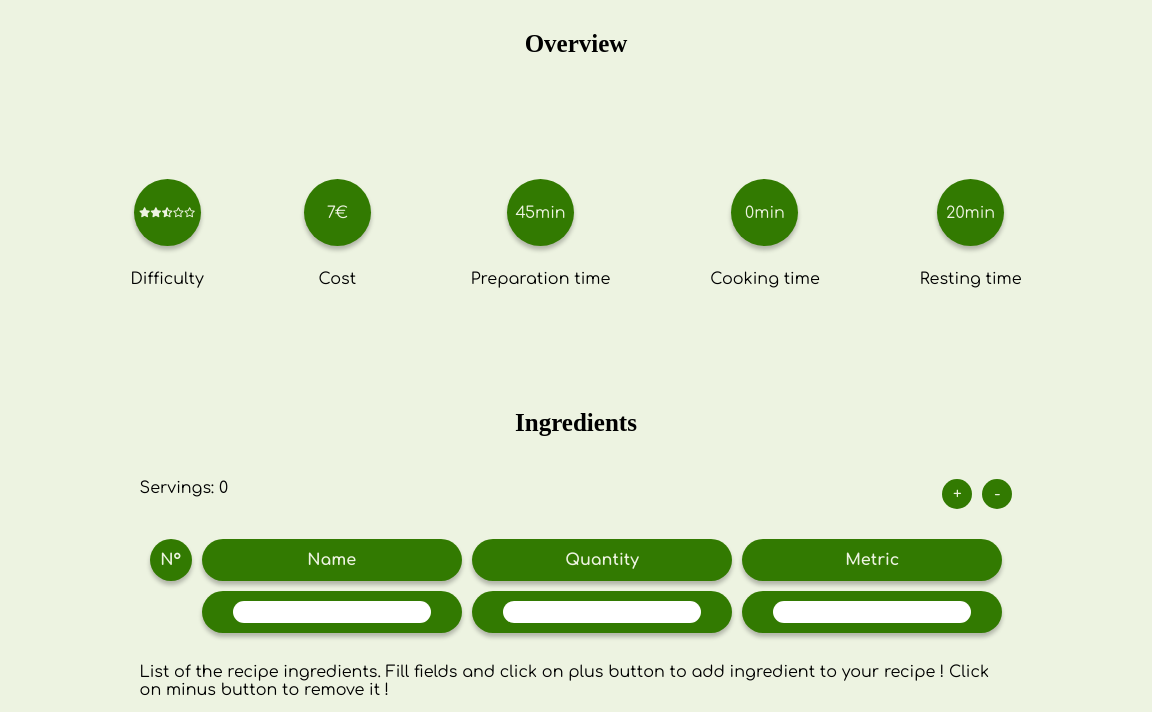
Scenario: clicks on plus button to add an invalid ingredient
(page scrolled)
Type "oil5" into the field with id "name" at point(332, 612), box x1=233 y1=601 x2=430 y2=623
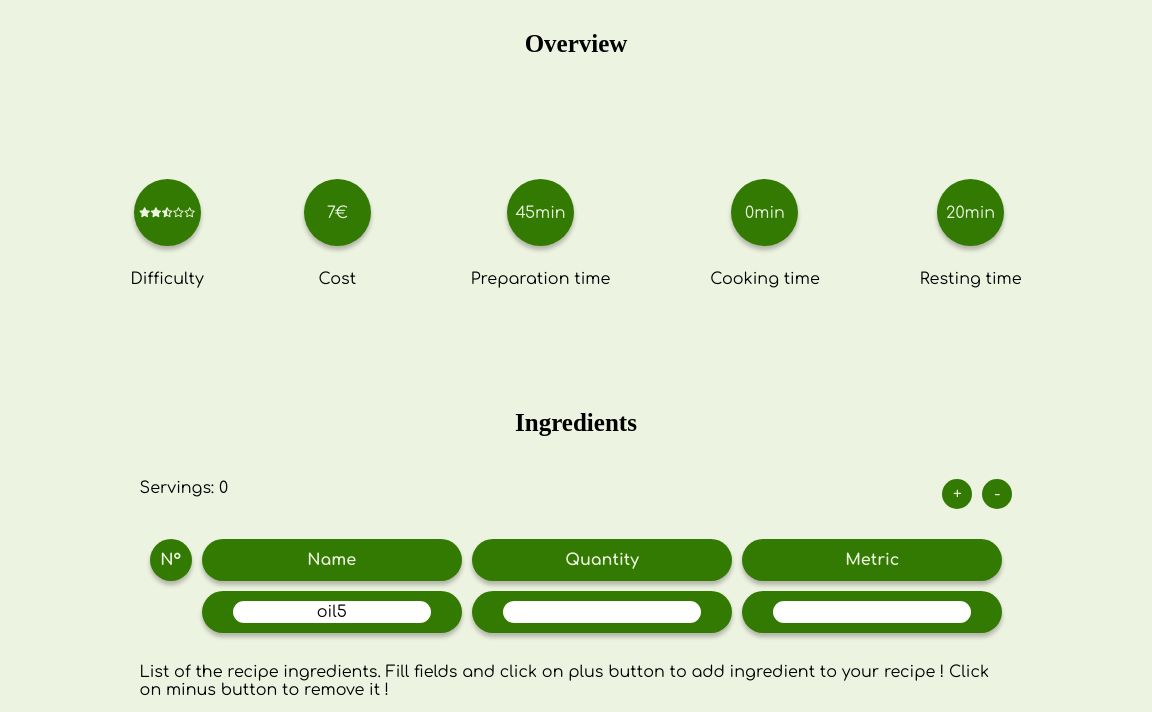
Type "5" into the field labelled "Quantity" at point(602, 612), box x1=503 y1=601 x2=701 y2=623
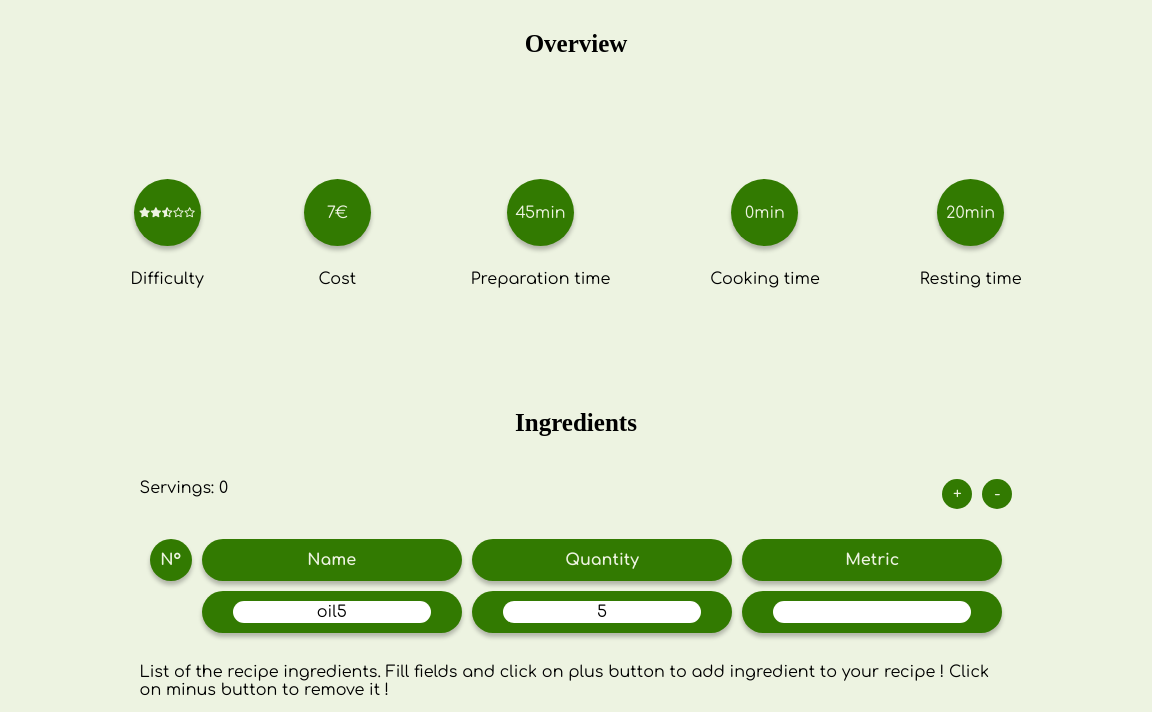
Type "cl" into the field with id "metric" at point(872, 612), box x1=773 y1=601 x2=971 y2=623
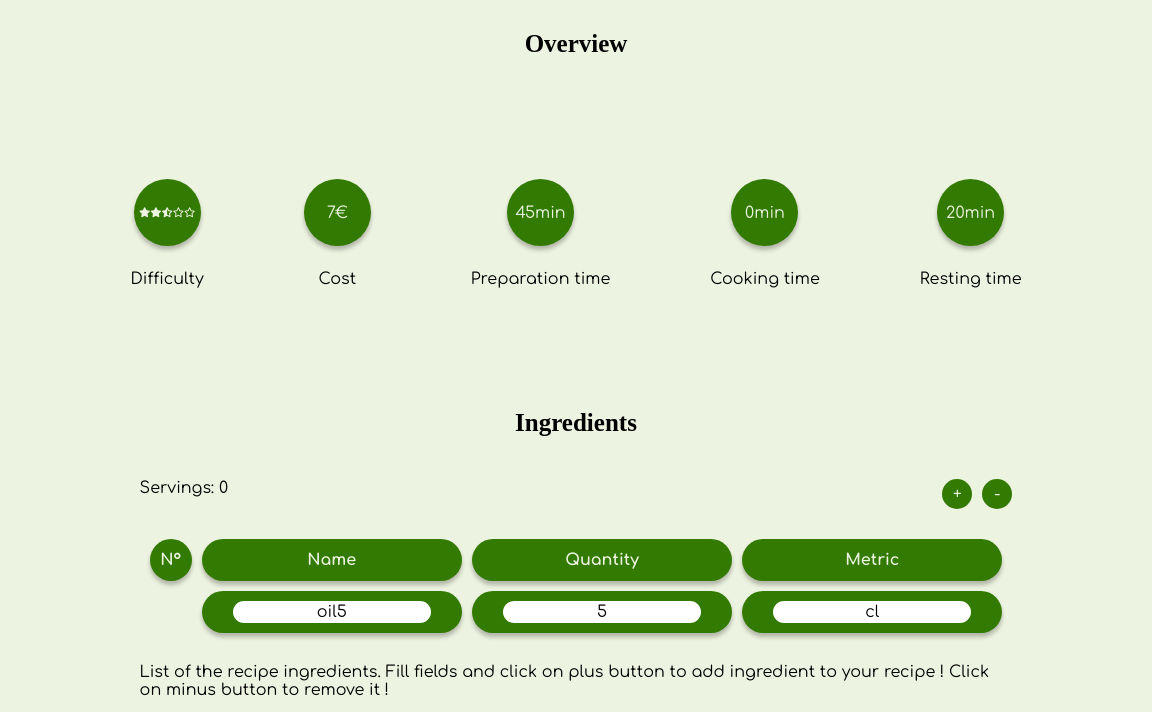
Submit the form, box x1=140 y1=479 x2=1012 y2=699
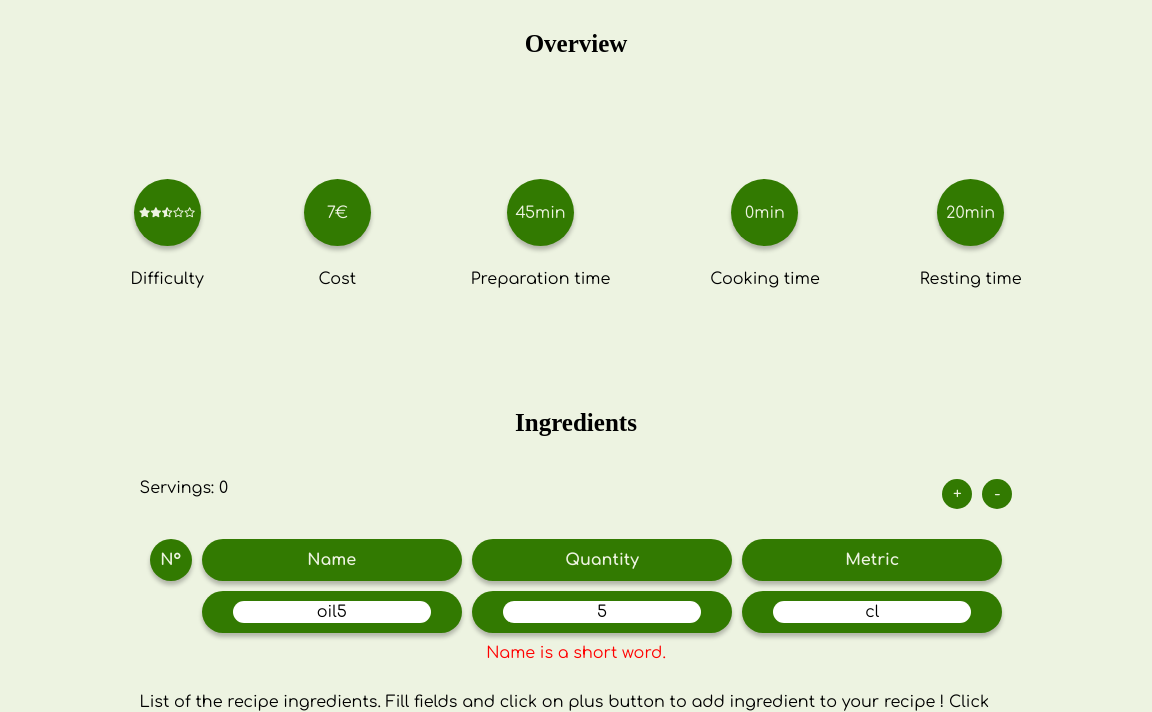
Expected: the cell "Name is a short word." is shown, x1=150 y1=643 x2=1002 y2=663
